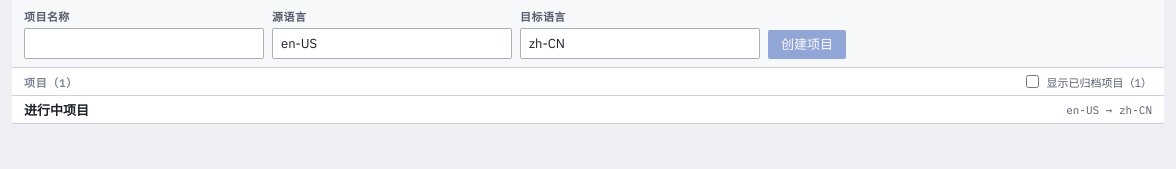
Test: ProjectsView › hides archived projects by default and shows them via the toggle
Expected: the text "进行中项目" is shown, [24,100,89,119]
Expected: the heading "项目（1）" is shown, [24,74,78,90]
Click the checkbox labelled "显示已归档项目（1）".
click(1033, 82)  # box [1026,75,1039,88]
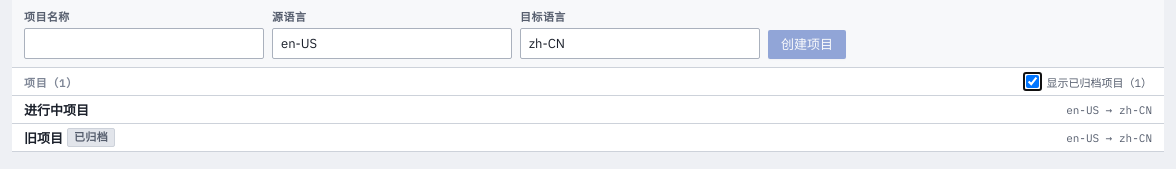
Expected: the text "旧项目" is shown, [24,130,63,147]
Expected: the text "已归档" is shown, [67,128,115,147]
